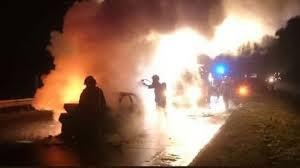fire: (145, 7, 281, 119), (61, 71, 85, 106)
